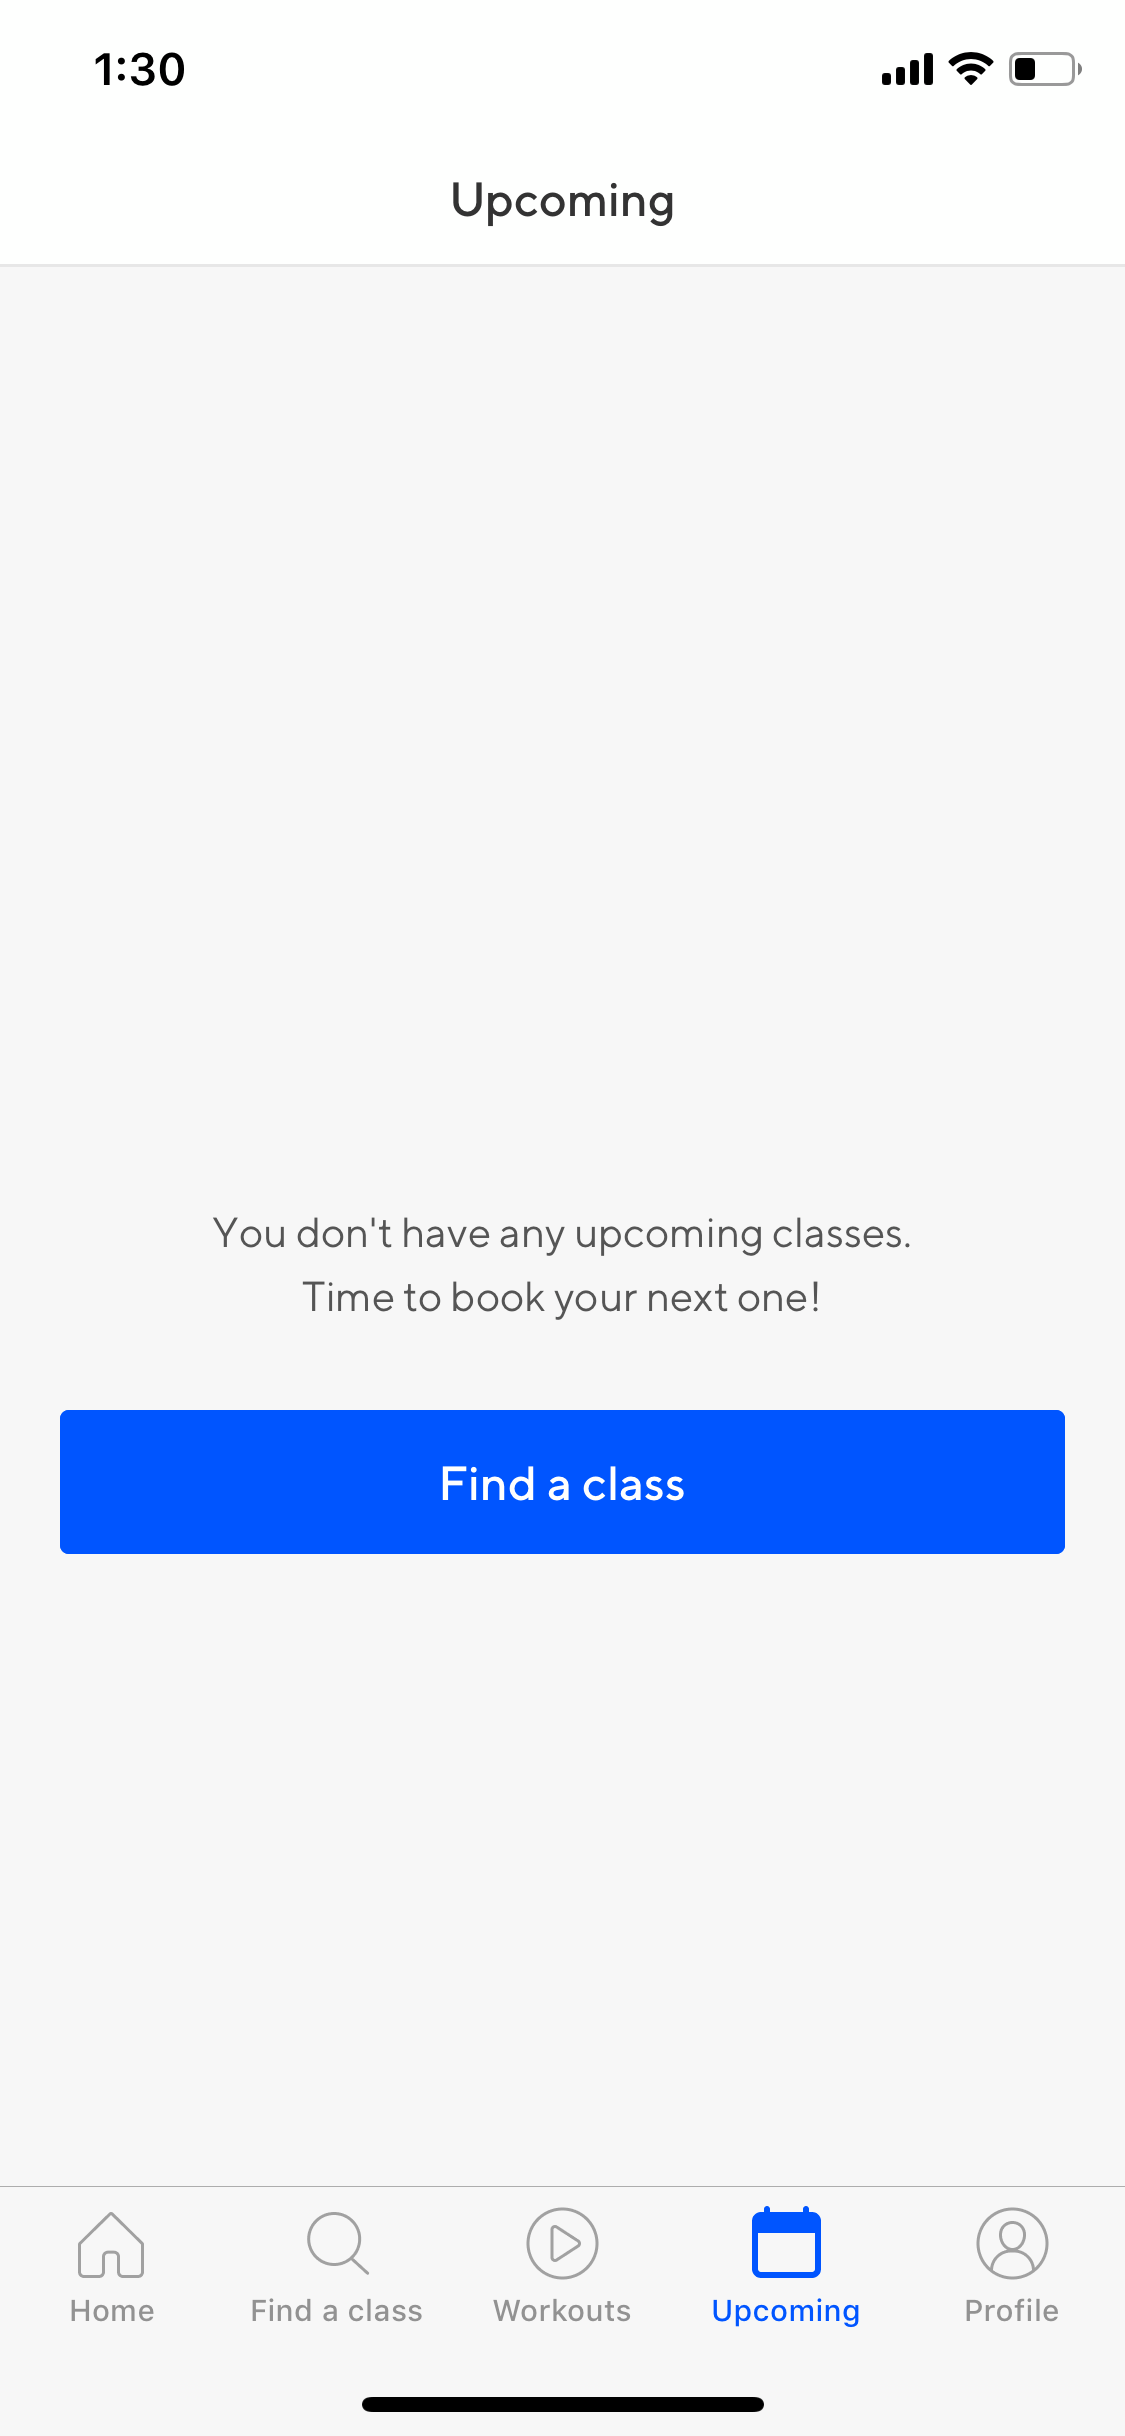Buttons: (40, 1383, 1088, 1572)
